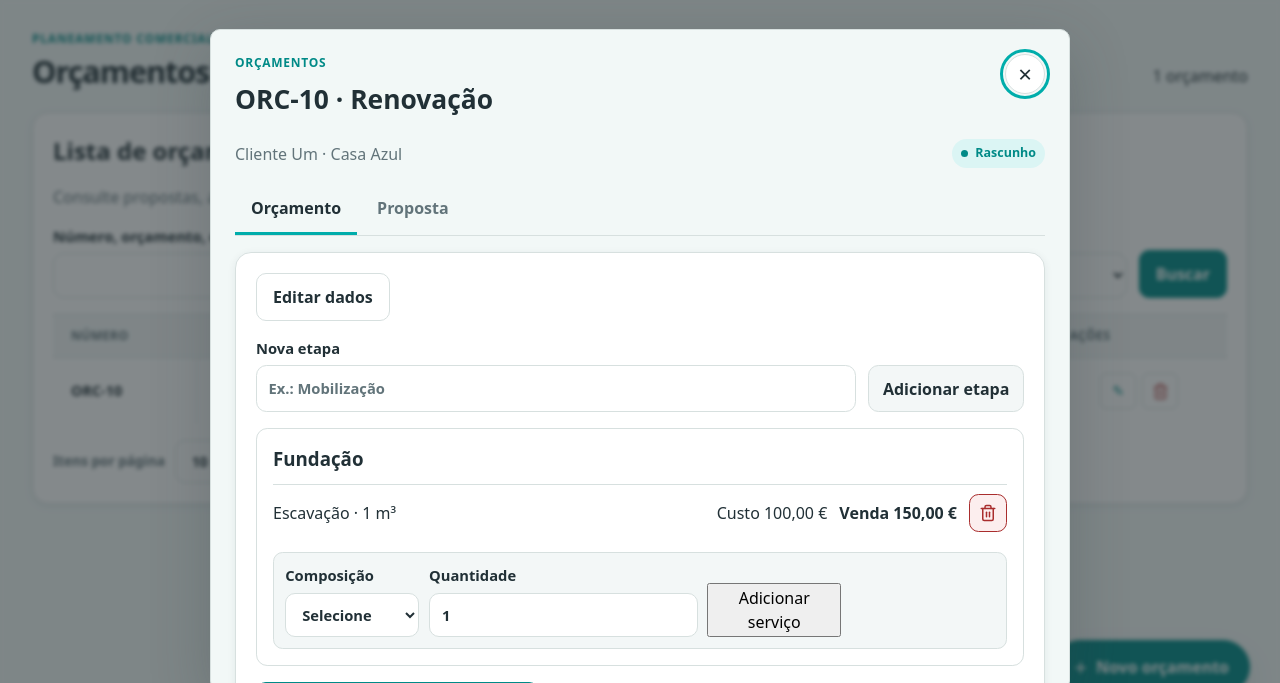
budget routes › removes a draft service after confirmation and refreshes the budget
Click the button named "Remover Escavação da etapa Fundação" at (988, 513), box left=969, top=494, right=1007, bottom=532
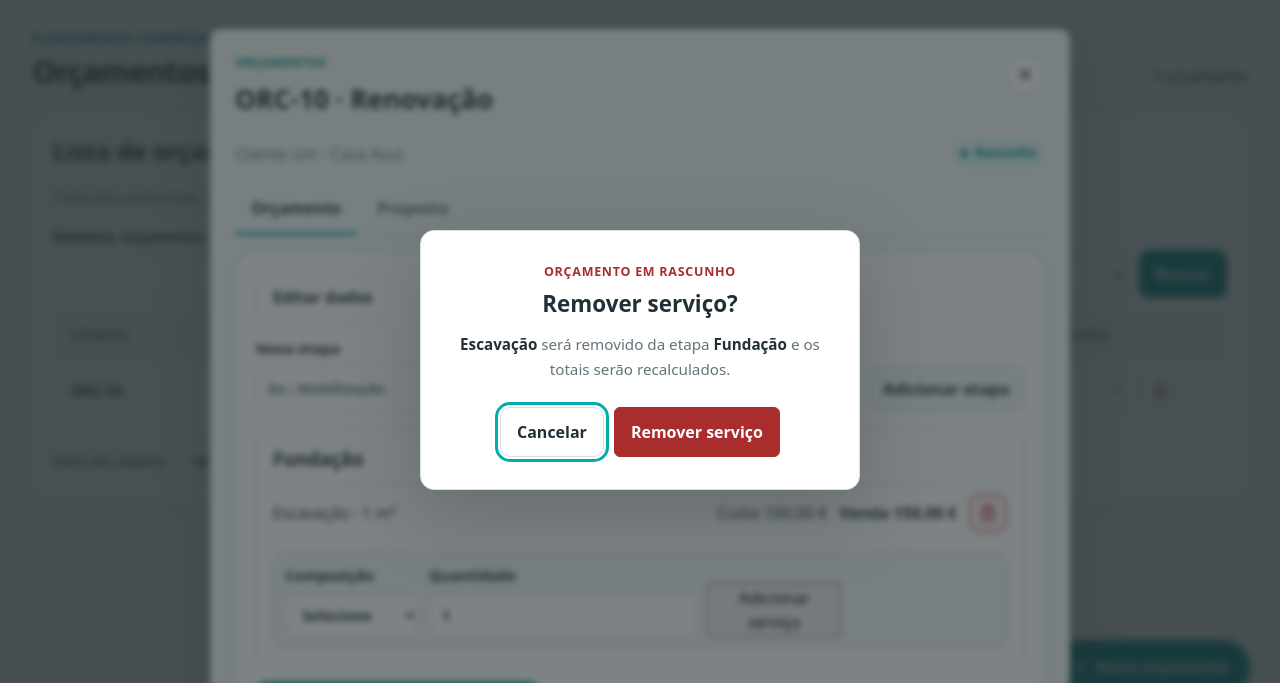
Click the button "Remover serviço" at (697, 432), box left=614, top=407, right=780, bottom=457
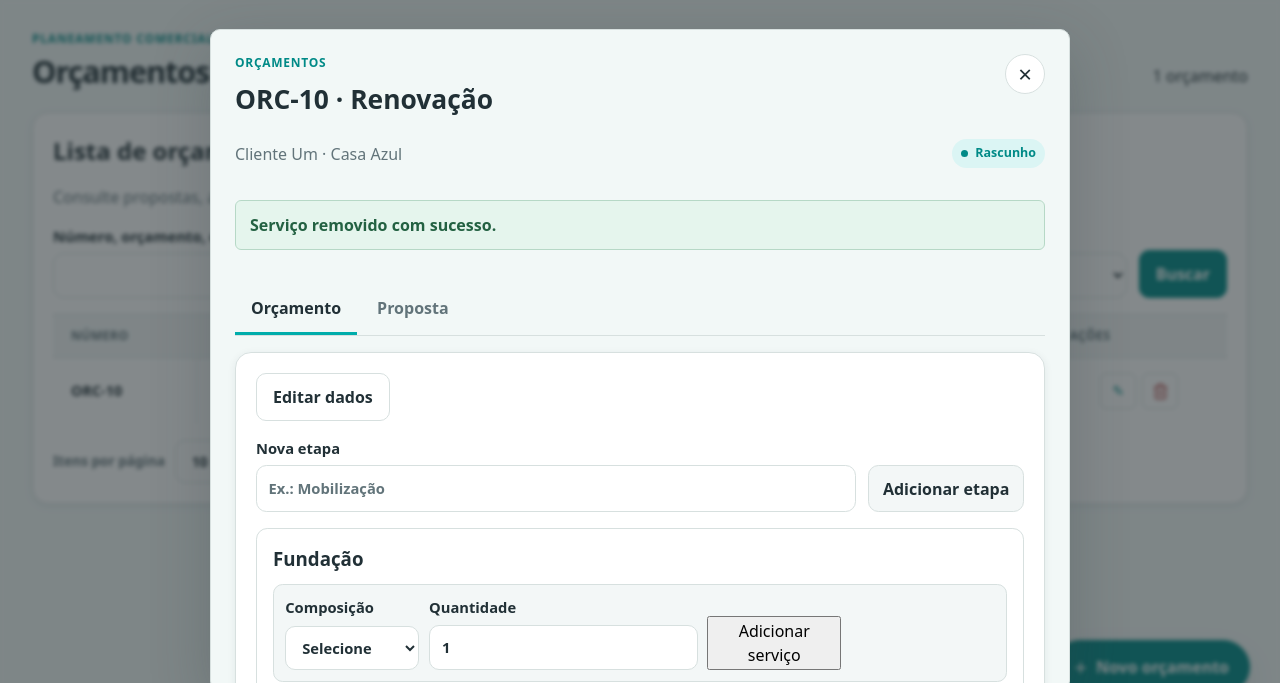
Expected: the text "Serviço removido com sucesso." is shown, left=235, top=200, right=1045, bottom=250
